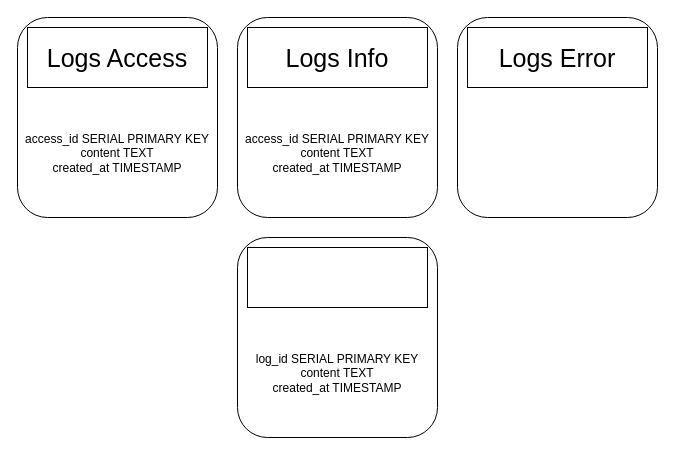
This 675x455 diagram has some shape labels left out. Each missing label, with the box of its shape:
error_id SERIAL PRIMARY KEY content TEXT created_at TIMESTAMP: (456, 16, 658, 218)
Logs Security: (246, 246, 428, 308)
